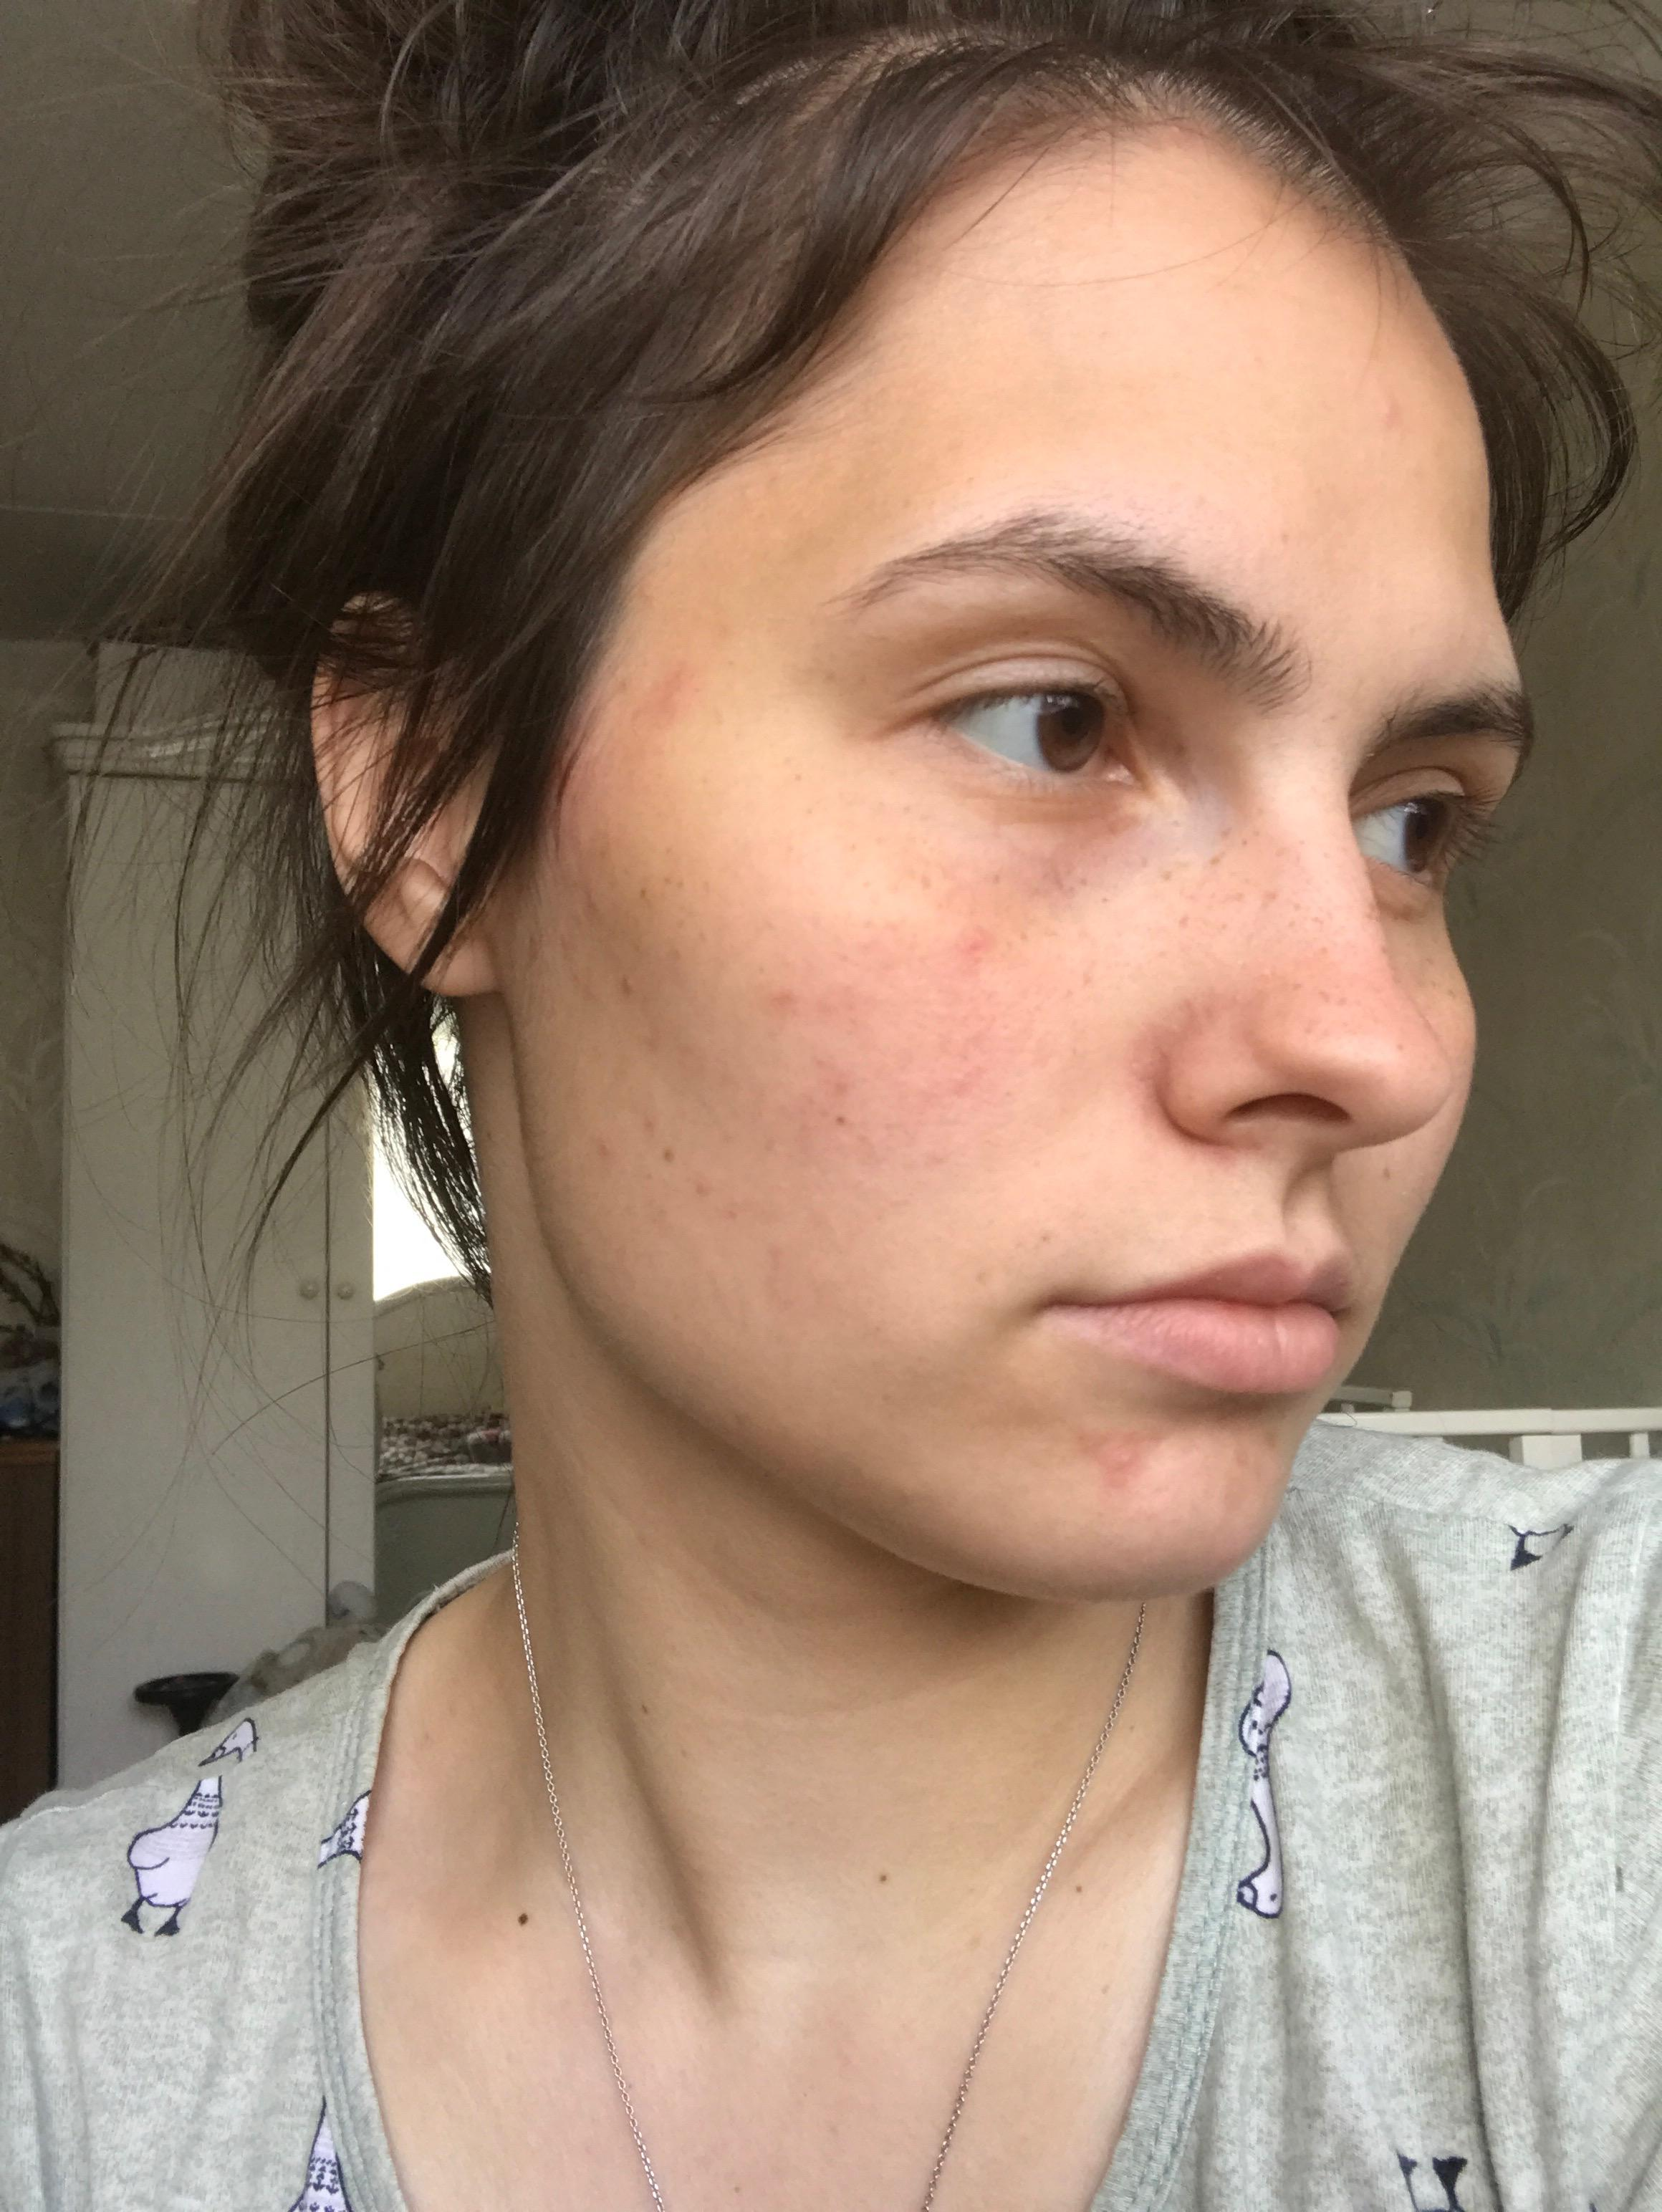Acne: (1074, 1418, 1161, 1493), (635, 662, 705, 732), (1372, 375, 1409, 445), (951, 913, 999, 967), (758, 979, 808, 1025), (592, 1133, 616, 1166)
Englarged-Pores: (815, 999, 1049, 1121)
